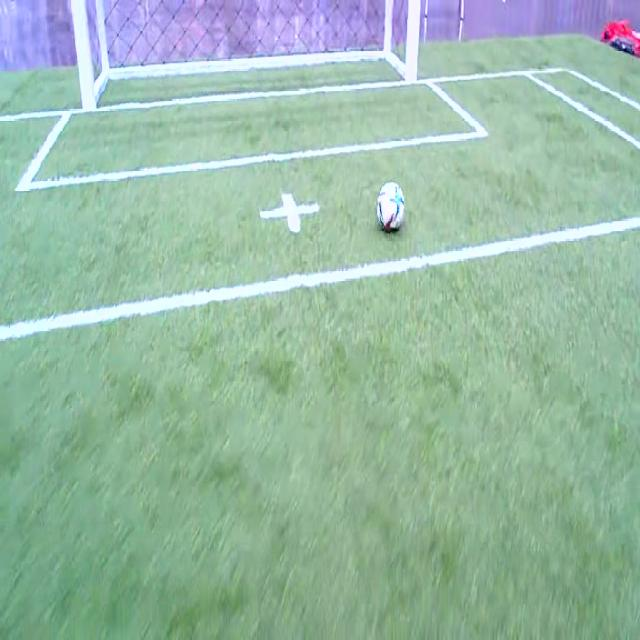ball: (377, 181, 405, 231)
